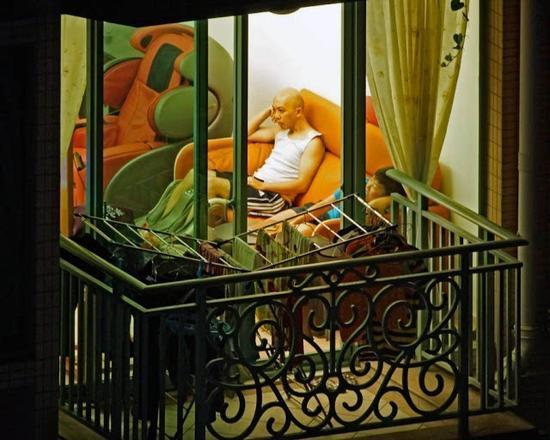face: (271, 101, 303, 129)
specialarea: (274, 110, 283, 116)
